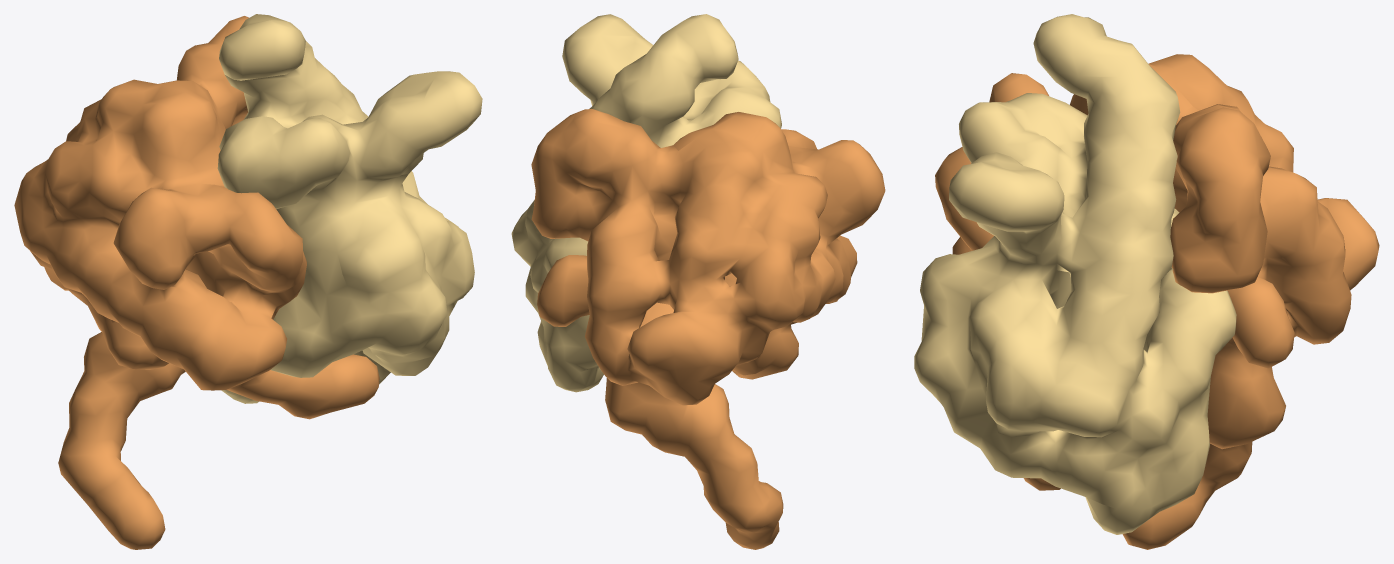
File: rna_export_factor.glb
3 renders of one model, left to right at view 1: azimuth 30°, elevation 25°; view 2: azimuth 150°, elevation 25°; view 3: azimuth 270°, elevation 25°, orthographic. The views are drawn at different scales.
Parts seen in each view (by area): view 1: GEO-NXF1-fragment.001, GEO-NXT1.001; view 2: GEO-NXF1-fragment.001, GEO-NXT1.001; view 3: GEO-NXT1.001, GEO-NXF1-fragment.001.
Part boxes in pixels (x1,y1,x2,y2): GEO-NXF1-fragment.001: (14,16,379,549); GEO-NXT1.001: (217,14,482,403); GEO-NXF1-fragment.001: (531,109,885,549); GEO-NXT1.001: (511,14,781,392); GEO-NXT1.001: (914,14,1236,534); GEO-NXF1-fragment.001: (935,54,1379,549).
Bounding box in the file's own units: 1.39 × 1.91 × 1.38.
